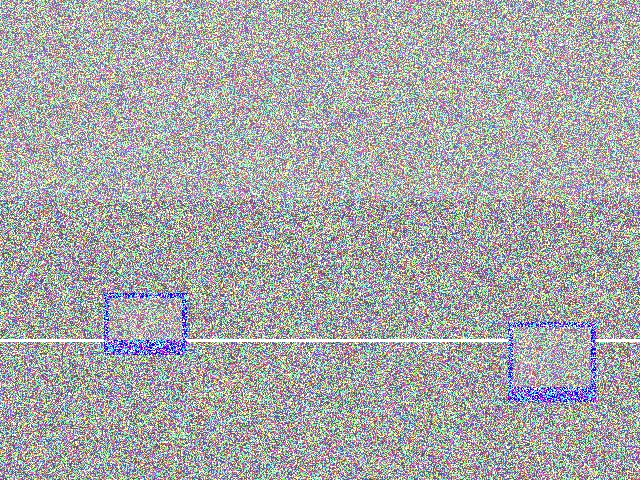car: (269, 120, 358, 225)
motorcycle: (124, 145, 248, 258)
truck: (53, 190, 151, 257)
